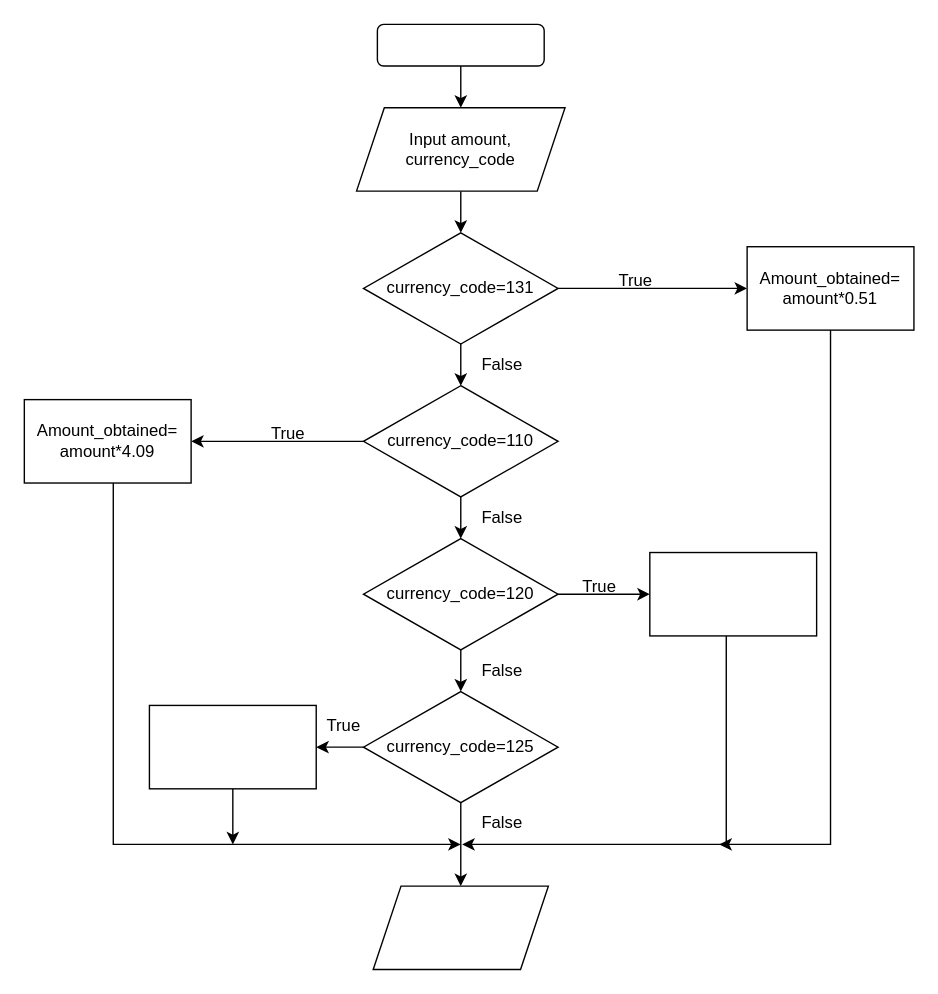
This 938x994 diagram has some shape labels left out. Each missing label, with the centre of its shape:
"Amount_obtained= amount*1.86" belongs at pixel 232 746.
"Amount_obtained= amount*2.09" belongs at pixel 732 593.
"Output Amount_obtained" belongs at pixel 460 927.
"Start" belongs at pixel 460 44.
